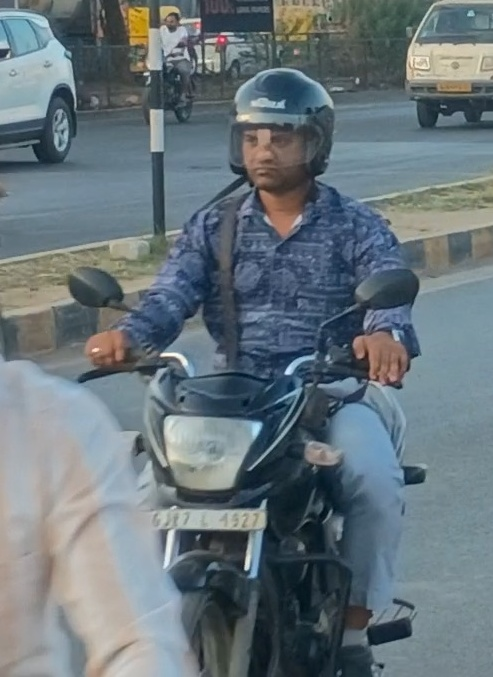BikeWithRider: (56, 61, 437, 677), (134, 1, 205, 129)
Helmet: (216, 61, 346, 198)
